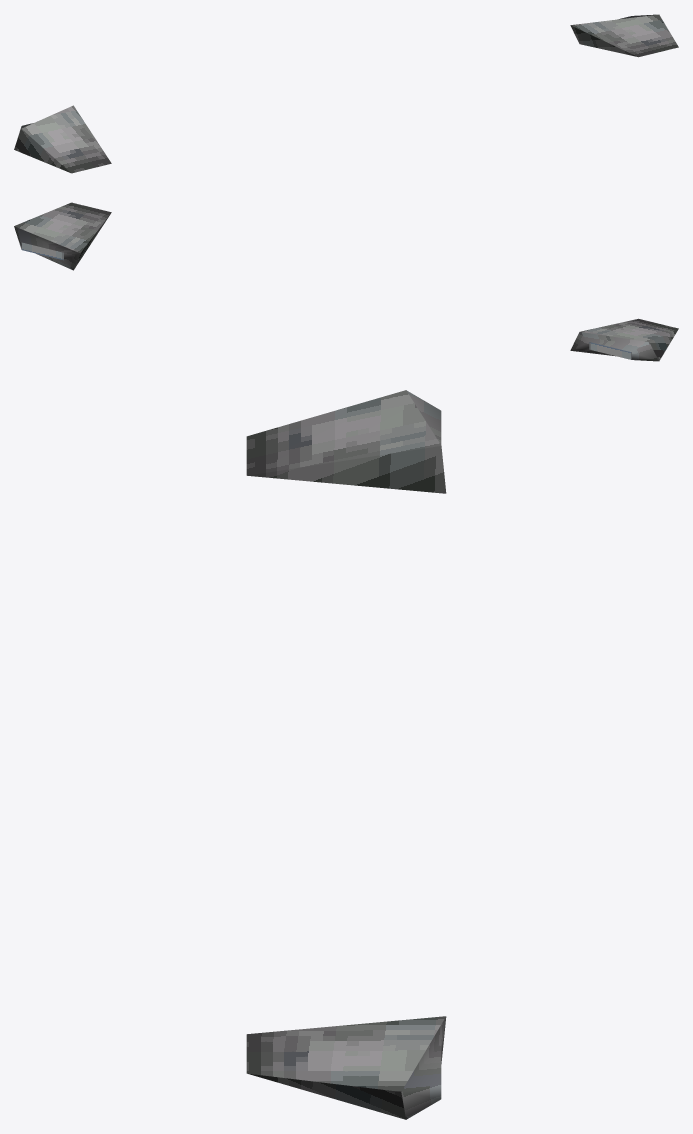
The model's file is xwing_booster_pos_s01_l3.fbx.
The picture shows the model from 3 angles, top to bottom: view 1: azimuth 30°, elevation 25°; view 2: azimuth 150°, elevation 25°; view 3: azimuth 270°, elevation 25°; orthographic projection. The views are drawn at different scales.
Parts seen in each view (by area): view 1: mesh_node; view 2: mesh_node; view 3: mesh_node.
Part boxes in pixels (bbox=[...]): mesh_node: bbox=[14, 14, 678, 173]; mesh_node: bbox=[14, 202, 678, 361]; mesh_node: bbox=[246, 390, 446, 1119].
Bounding box in the file's own units: 8.52 × 0.7857 × 1.14.
Materials: 1 (1 with a texture image).
